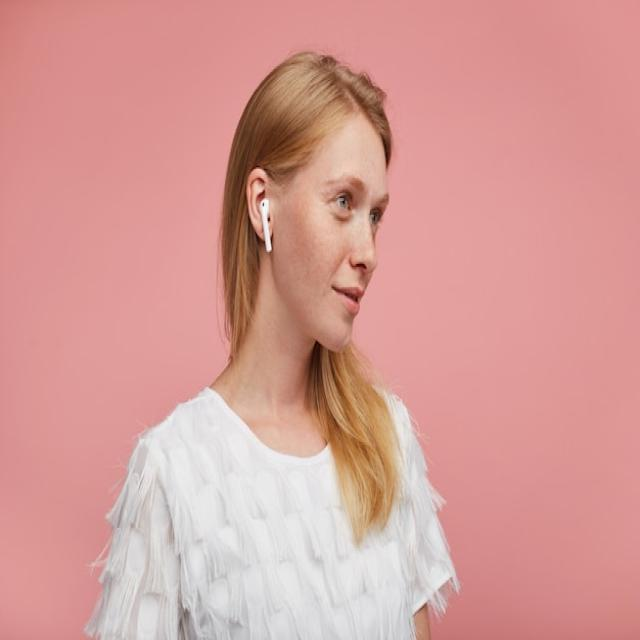airpods: (259, 198, 274, 255)
